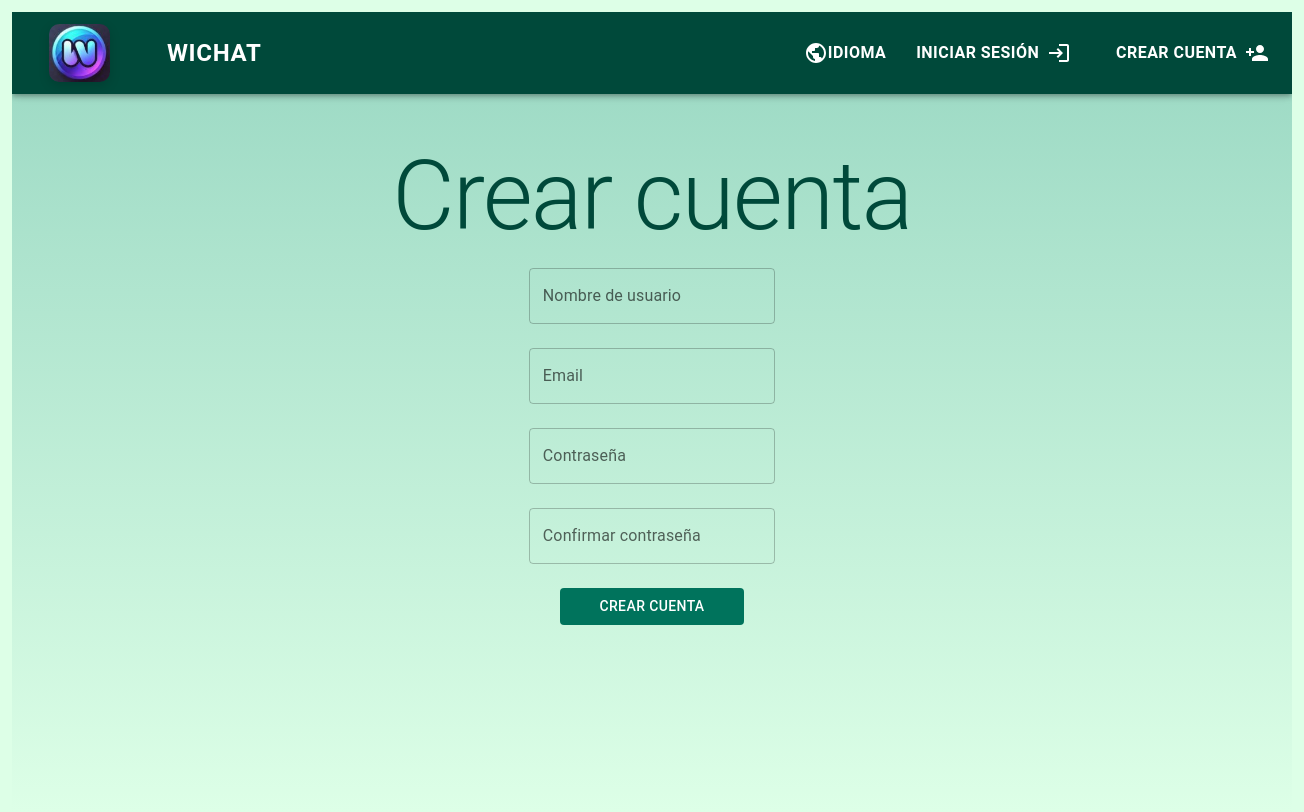
Test case: AddUser component › should show error if username is already taken
In the field with test id "username-input": (652, 296) x1=529 y1=268 x2=775 y2=324, type "existinguser"
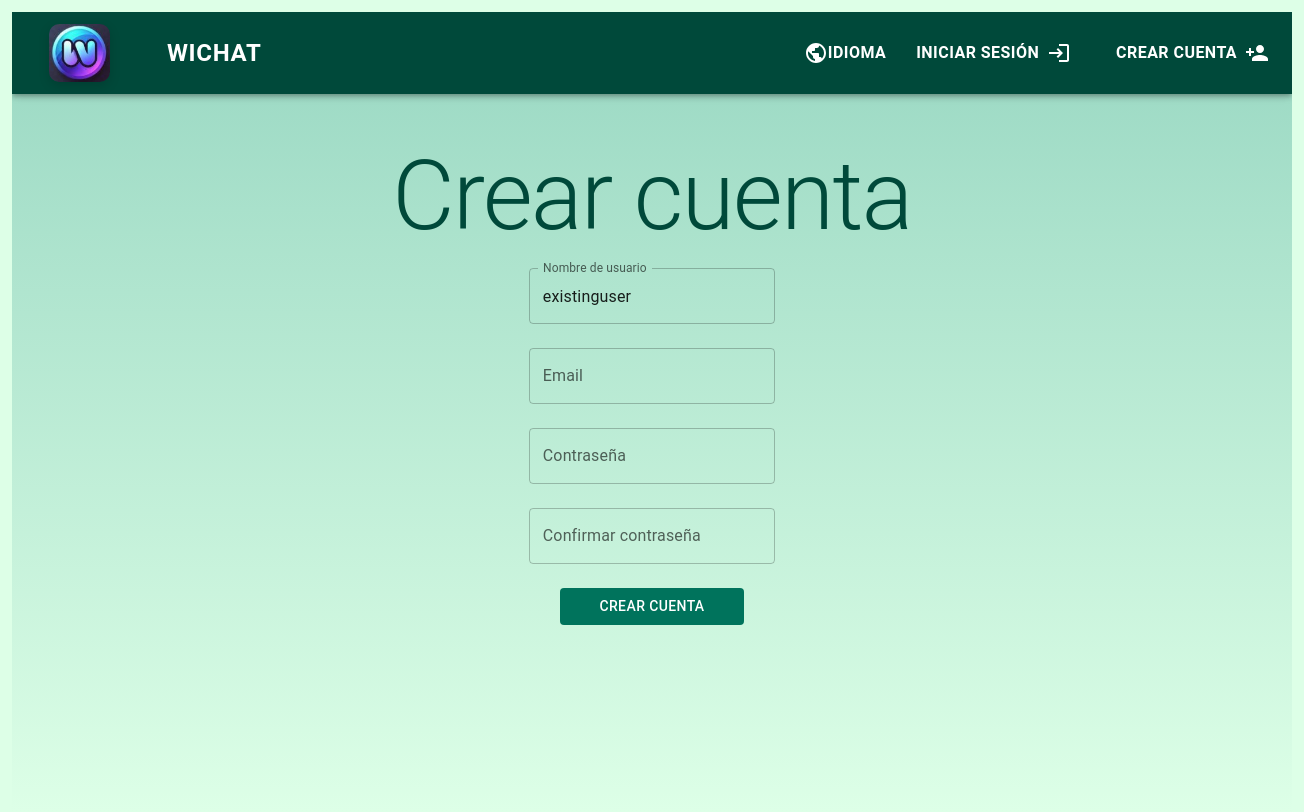
In the field with test id "email-input": (652, 376) x1=529 y1=348 x2=775 y2=404, type "test@example.com"
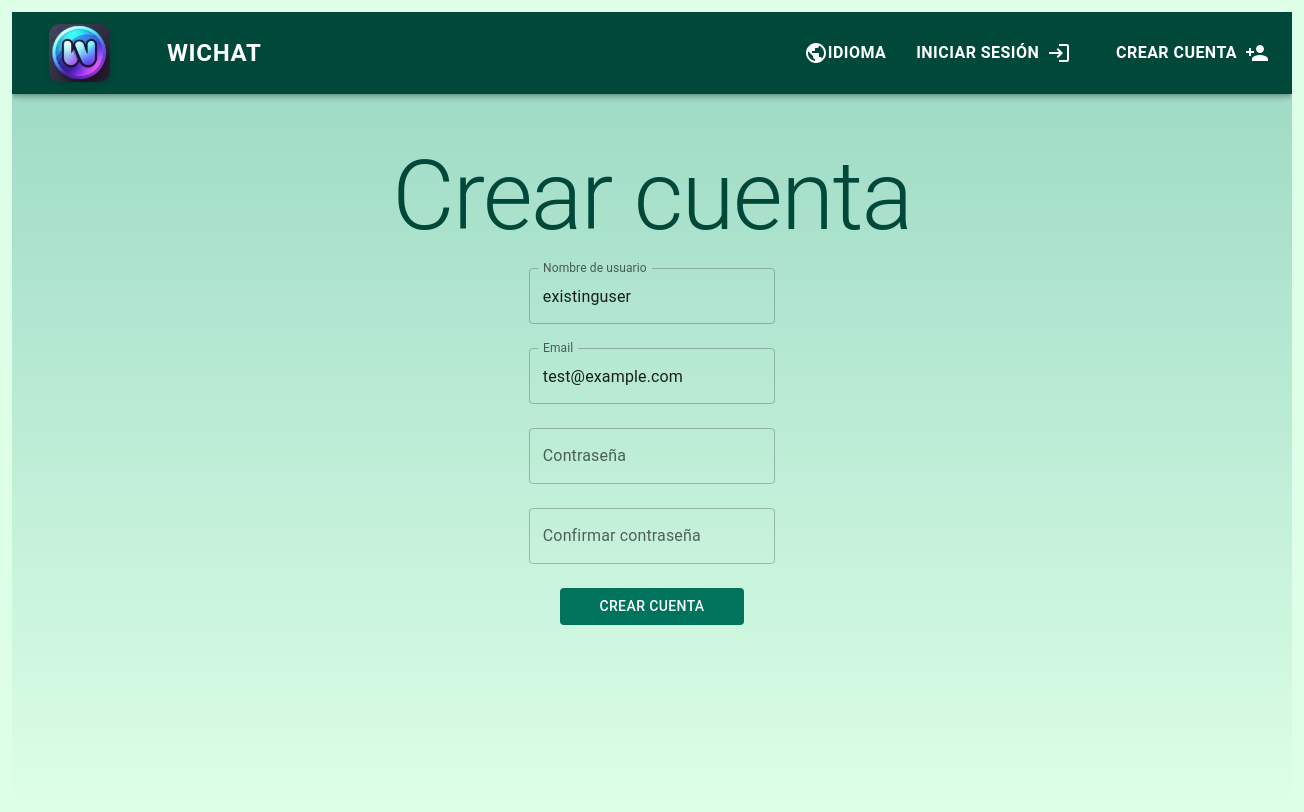
In the password field with test id "password-input": (652, 456) x1=529 y1=428 x2=775 y2=484, type "Testpass1"
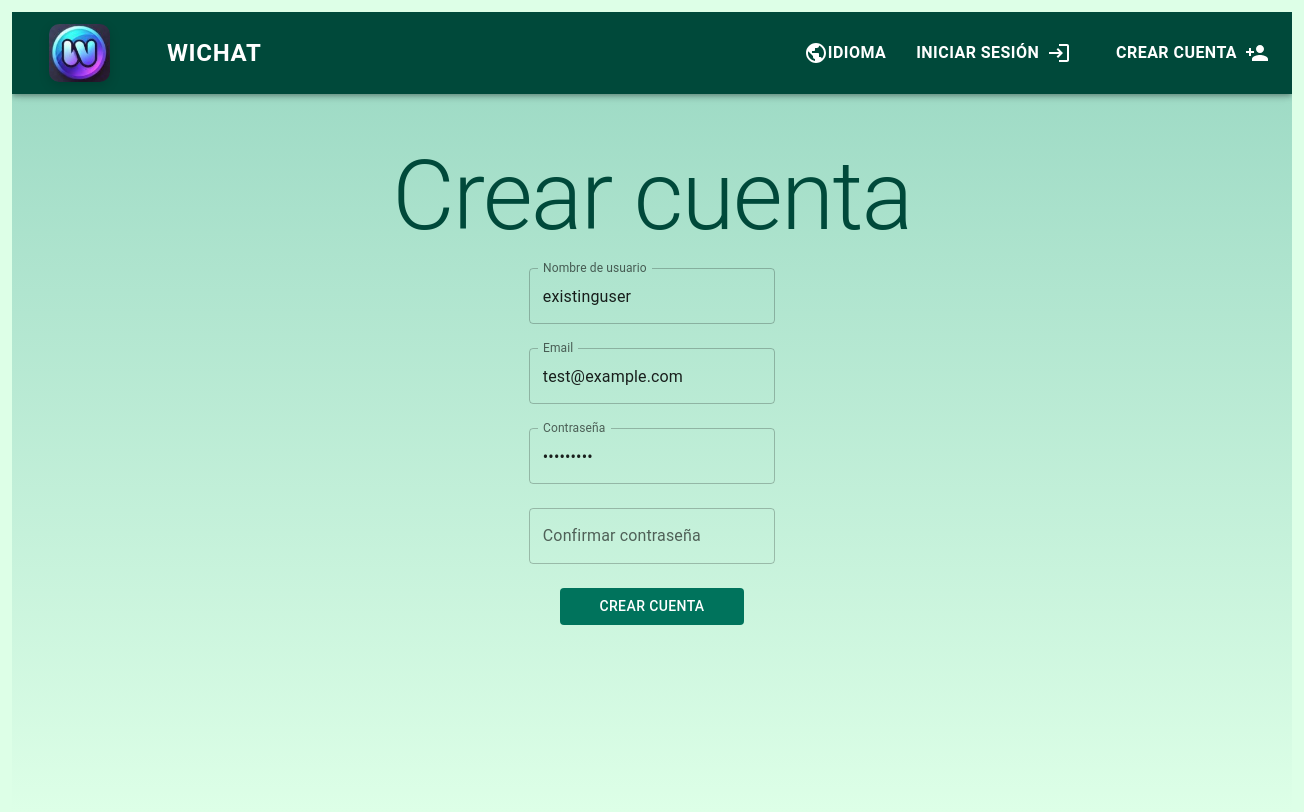
In the password field with test id "confirm-password-input": (652, 536) x1=529 y1=508 x2=775 y2=564, type "Testpass1"
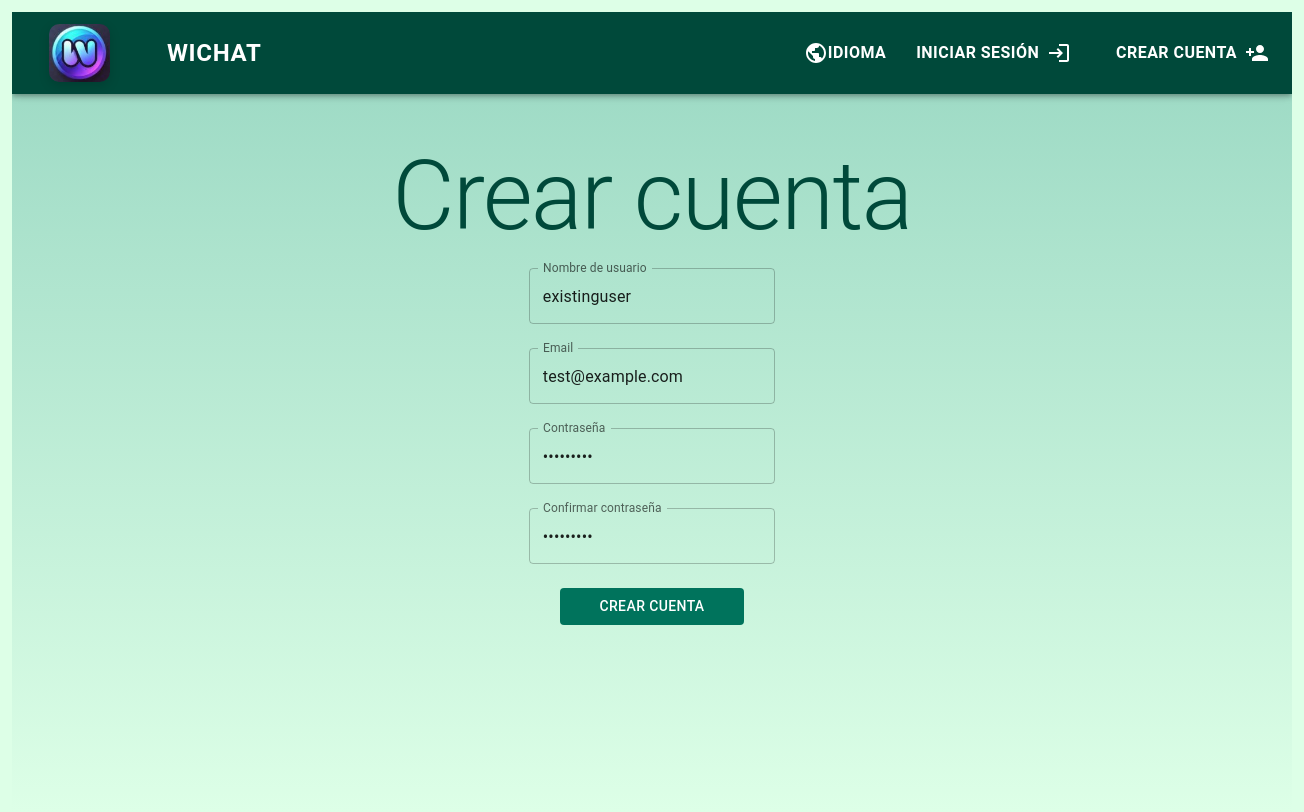
Click the button with test id "signup-button": (652, 606) x1=560 y1=588 x2=744 y2=624
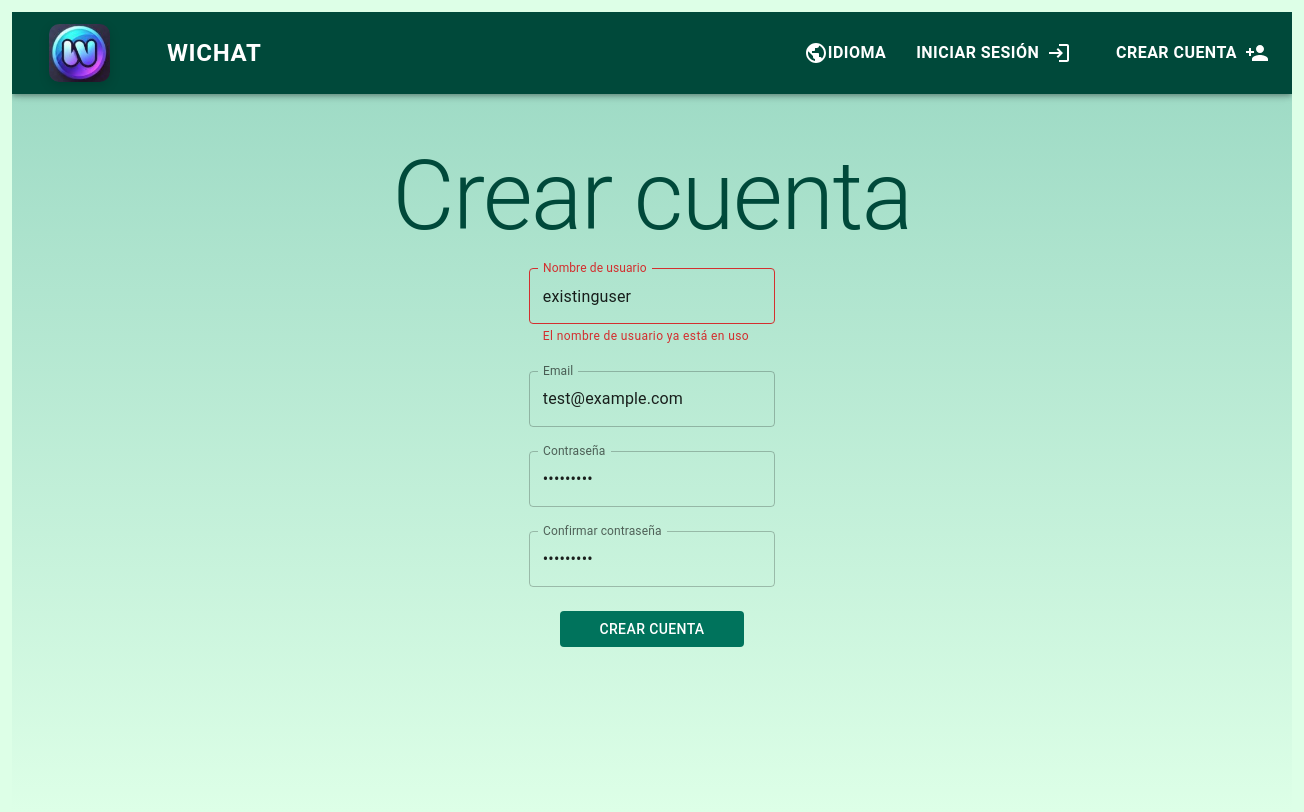
Expected: the text "El nombre de usuario ya está en uso" is shown, x1=543 y1=327 x2=761 y2=347
